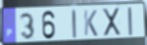3: (19, 12, 37, 41)
6: (41, 10, 56, 41)
I: (126, 6, 134, 37), (71, 8, 78, 39)
K: (82, 10, 99, 38)
X: (101, 7, 123, 38)
